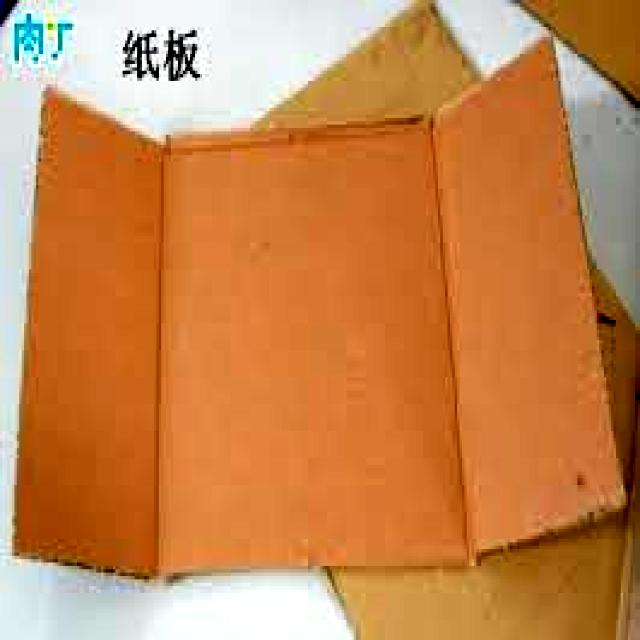Cardboard: (27, 85, 612, 572)
